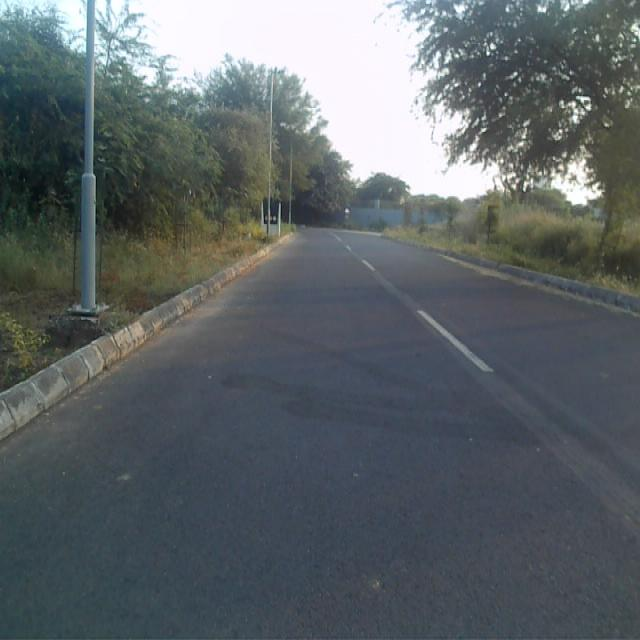lane: (0, 233, 640, 640)
